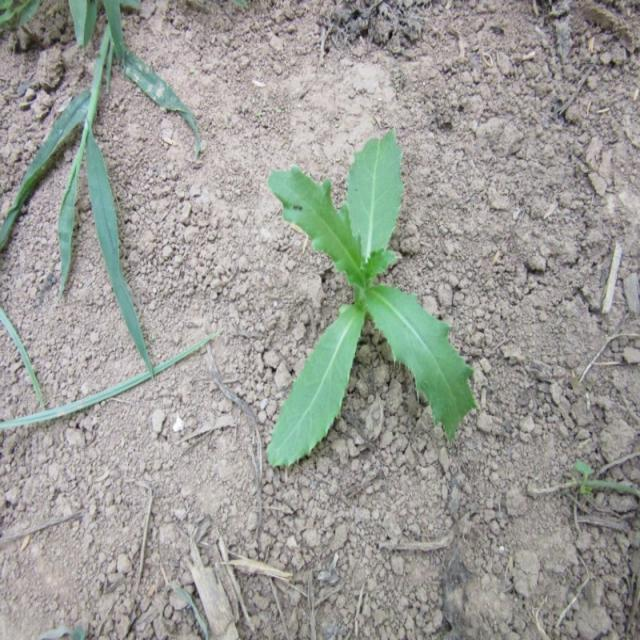field_thistle: (250, 138, 492, 488)
